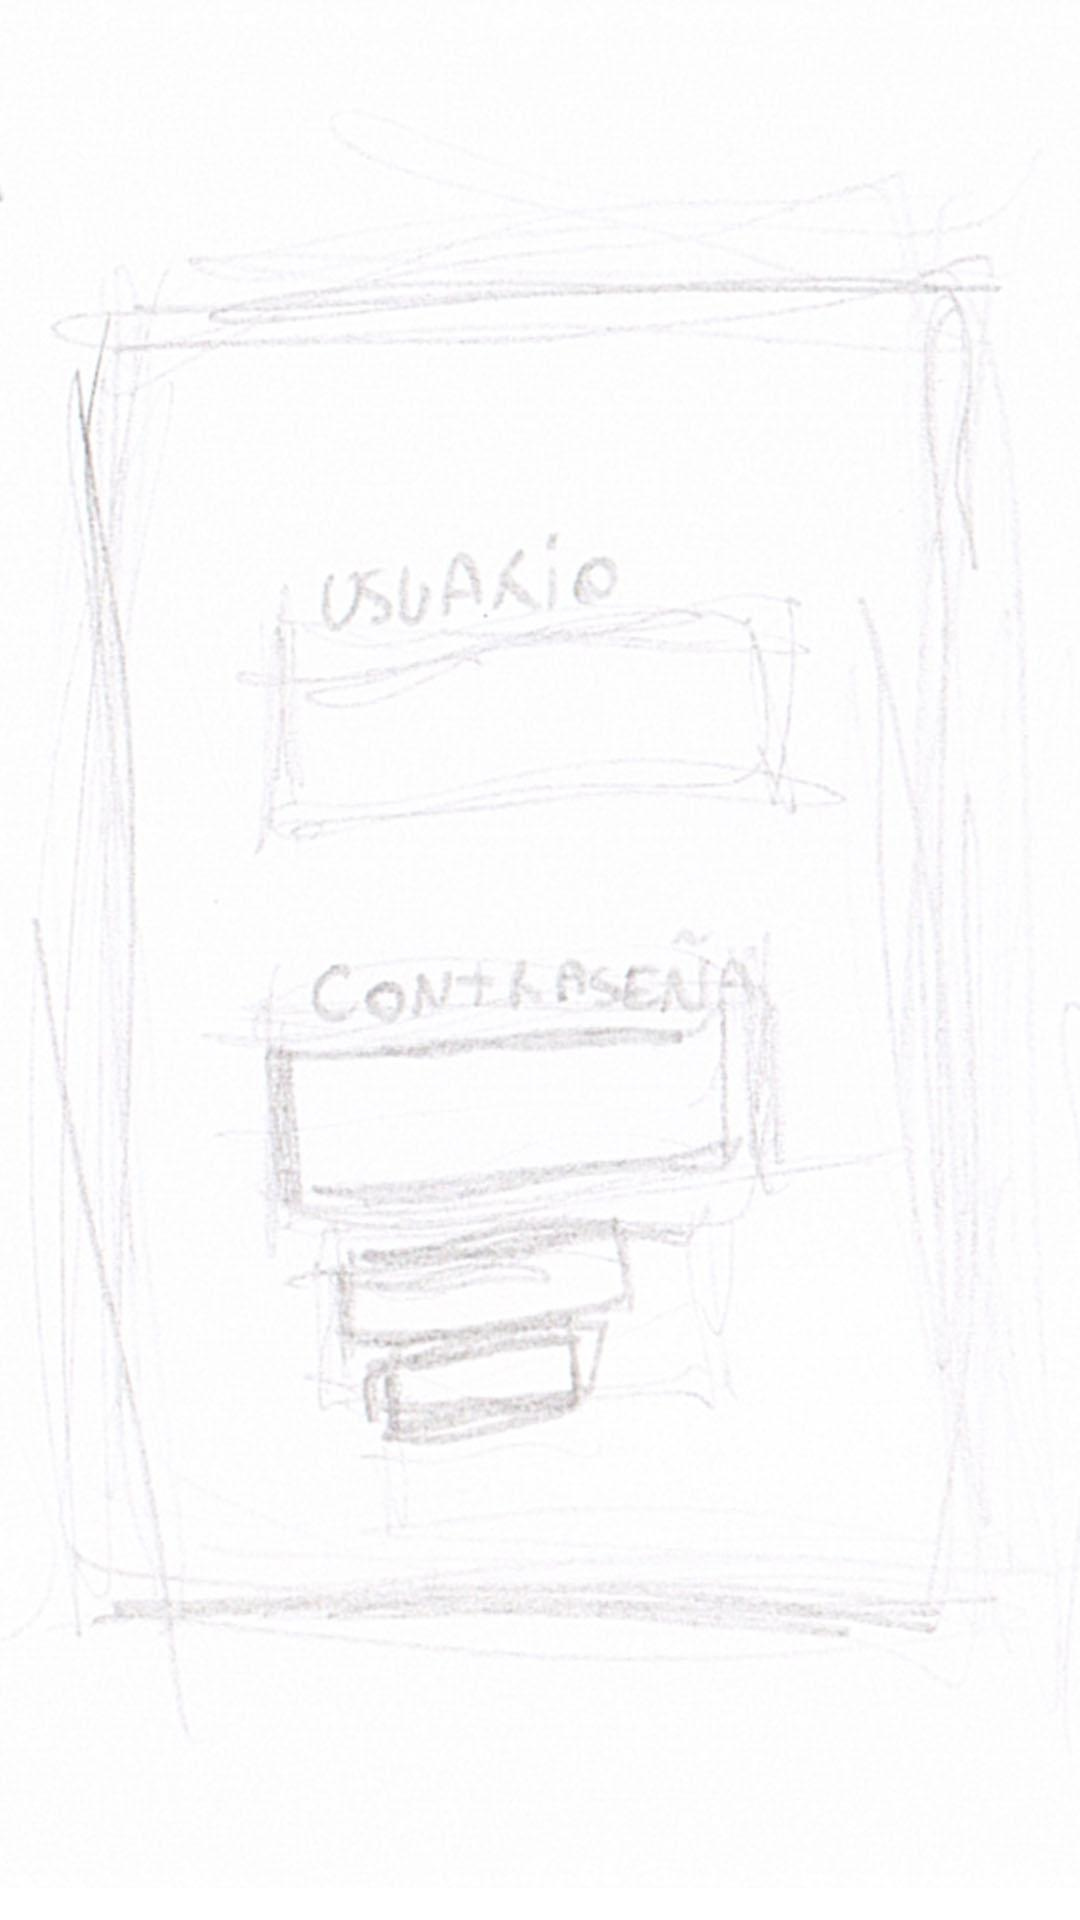Label: (301, 924, 764, 1029), (315, 529, 624, 633)
Screen: (55, 270, 1002, 1633)
TextBox: (255, 605, 789, 833), (260, 1005, 775, 1224), (340, 1220, 630, 1342), (364, 1324, 605, 1444)
